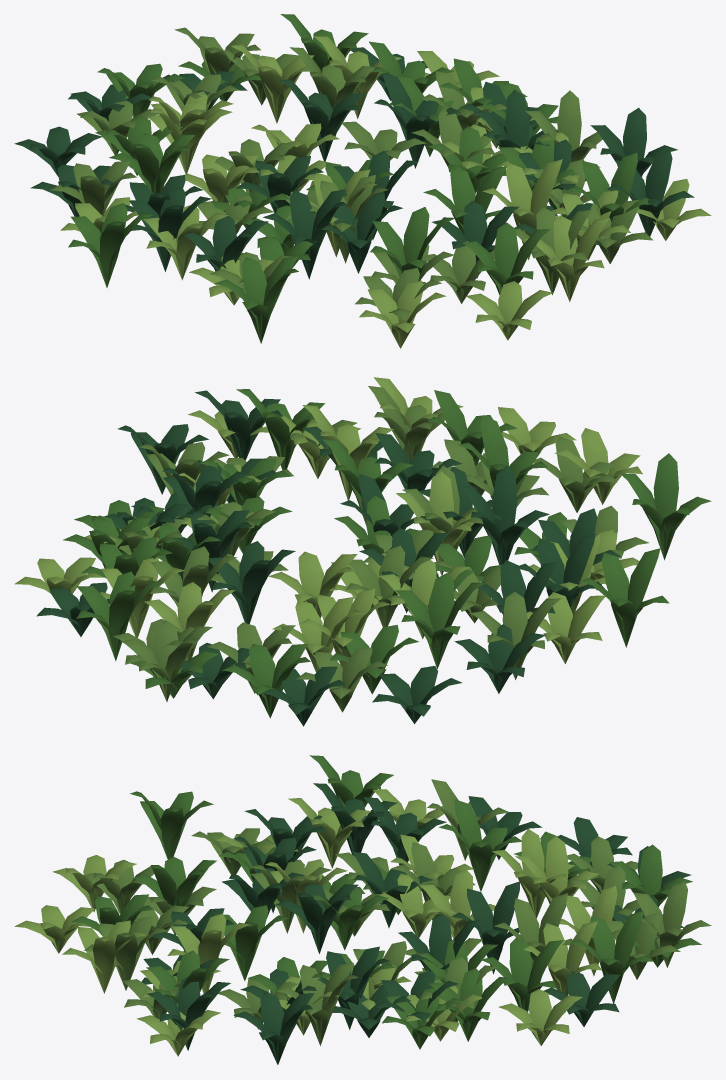
Rendered from meadow_moss.hi.glb.
The picture shows the model from 3 angles, top to bottom: view 1: azimuth 30°, elevation 25°; view 2: azimuth 150°, elevation 25°; view 3: azimuth 270°, elevation 25°; orthographic projection. The views are drawn at different scales.
Parts seen in each view (by area): view 1: body; view 2: body; view 3: body.
Boxes of the visible parts, box(x1,y1,x2,y2) form: body: box(14, 14, 711, 348); body: box(14, 377, 711, 726); body: box(14, 755, 711, 1064).
Bounding box in the file's own units: 0.3203 × 0.0477 × 0.3584.
